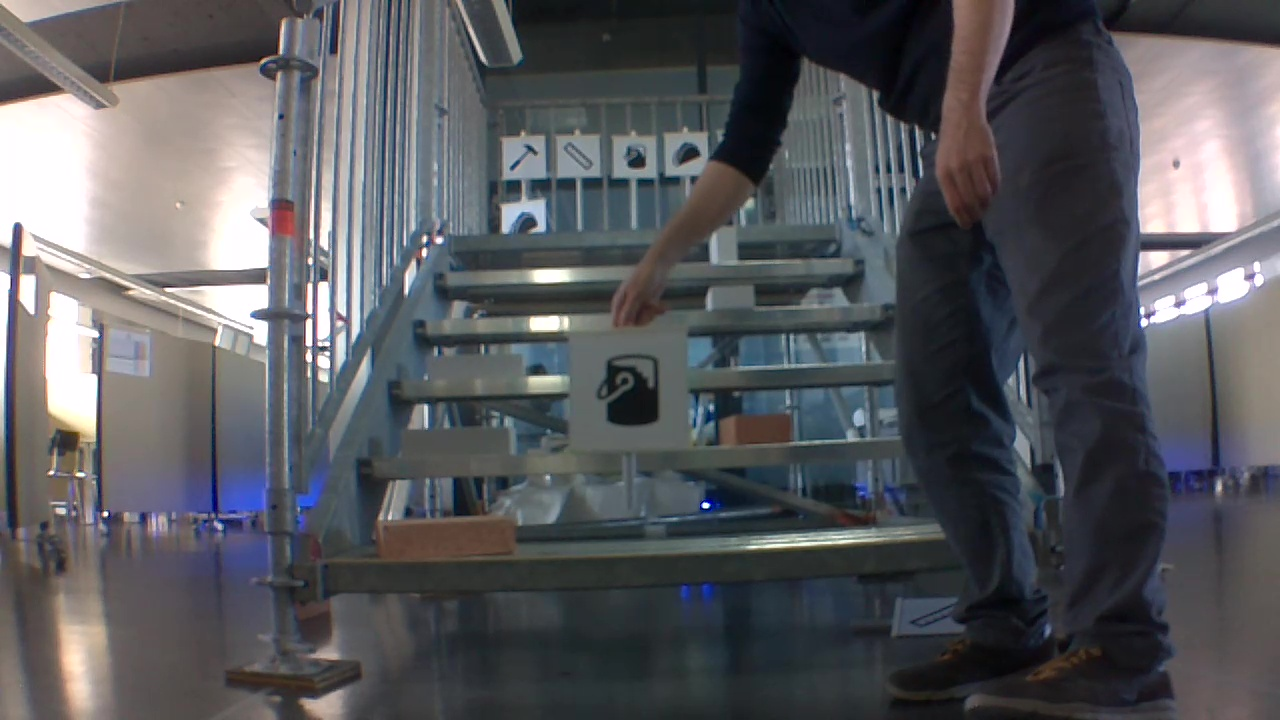brick: (372, 505, 514, 557), (399, 427, 514, 461), (427, 354, 529, 384), (708, 409, 783, 449), (706, 223, 740, 261), (705, 287, 753, 307)
bucket: (596, 352, 662, 431), (617, 140, 651, 174)
edge: (315, 534, 949, 599)
hammer: (510, 142, 541, 171)
ruler: (561, 138, 598, 174)
taco: (674, 138, 700, 170), (510, 209, 539, 236)
